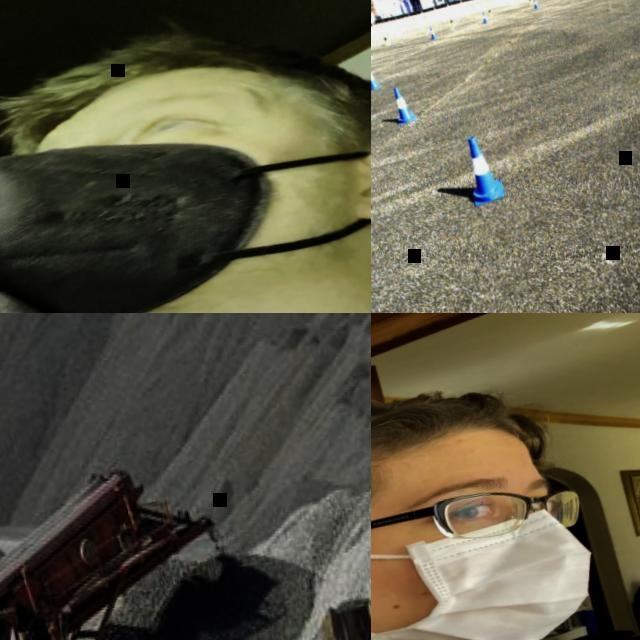Mask: (0, 83, 371, 313), (371, 501, 609, 640)
NO-Hardhat: (17, 0, 371, 137), (371, 357, 530, 551)
Person: (0, 0, 371, 313), (371, 323, 640, 640)
Safety Cone: (461, 132, 504, 205), (391, 84, 416, 124), (371, 63, 381, 90), (428, 26, 436, 40), (382, 34, 391, 46), (480, 11, 488, 23), (448, 15, 454, 27), (487, 6, 493, 16), (532, 0, 538, 8), (527, 0, 532, 4)
machinery: (0, 450, 237, 640)
